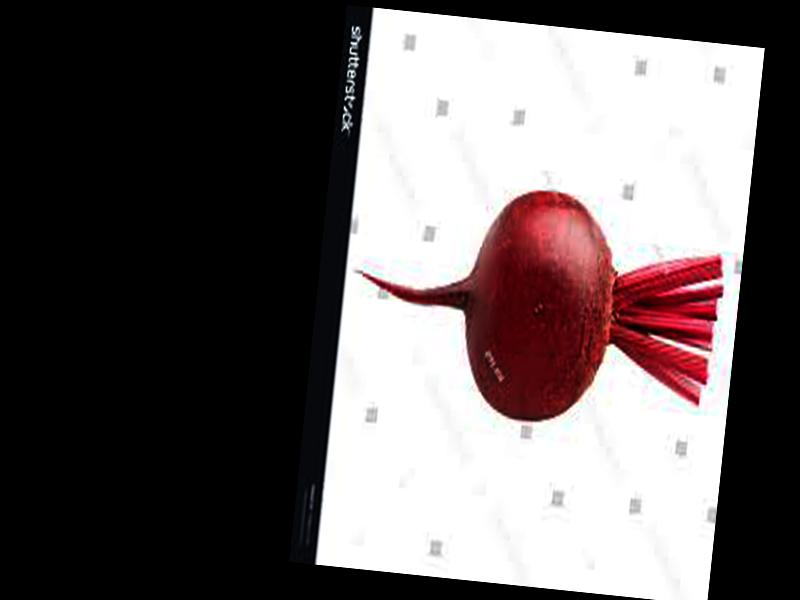Beet: (341, 173, 729, 439)
